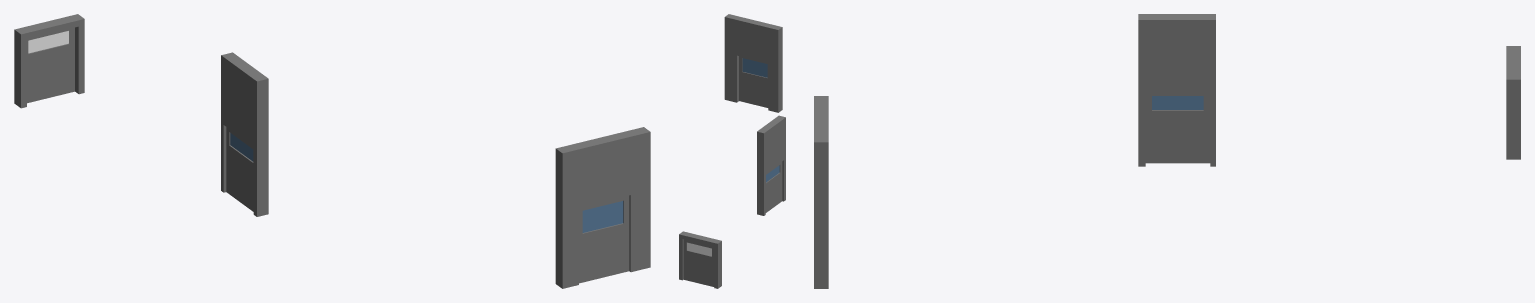
File: DoorFrame&Door.FBX
The picture shows the model from 3 angles, left to right: view 1: azimuth 30°, elevation 25°; view 2: azimuth 150°, elevation 25°; view 3: azimuth 270°, elevation 25°; orthographic projection. The views are drawn at different scales.
Visible parts, largest first — view 1: ExteriorDoorFrame, Door (×3), InteriorDoorFrame, ToiletDoorFrame; view 2: ExteriorDoorFrame, Door (×3), InteriorDoorFrame, ToiletDoorFrame; view 3: InteriorDoorFrame, Door, ExteriorDoorFrame, ToiletDoorFrame.
Part boxes in pixels (<box>): ExteriorDoorFrame: <box>555,127,650,288</box>; Door (×3): <box>27,27,629,283</box>; InteriorDoorFrame: <box>221,52,268,216</box>; ToiletDoorFrame: <box>14,14,84,108</box>; ExteriorDoorFrame: <box>724,14,782,112</box>; Door (×3): <box>683,56,782,286</box>; InteriorDoorFrame: <box>757,115,785,215</box>; ToiletDoorFrame: <box>679,231,721,288</box>; InteriorDoorFrame: <box>1138,14,1215,166</box>; Door: <box>1145,93,1210,163</box>; ExteriorDoorFrame: <box>814,96,828,288</box>; ToiletDoorFrame: <box>1506,46,1520,159</box>.
Bounding box in the file's own units: 470 × 197 × 861.
